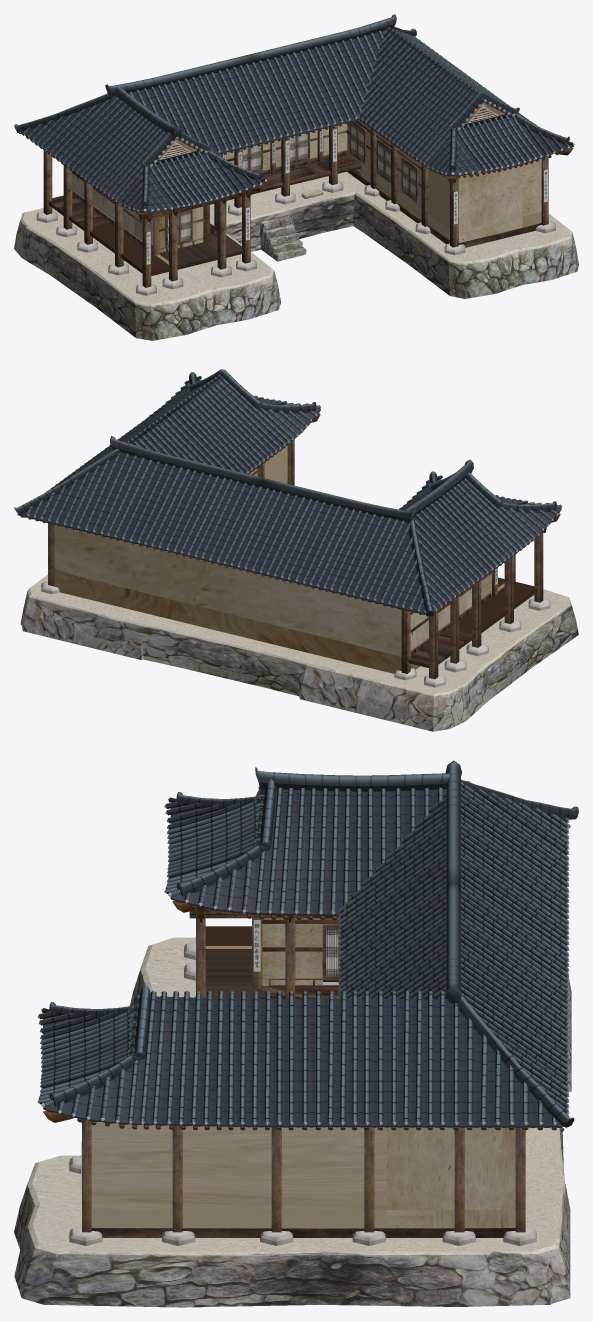
The model's file is koreahouse(Digut).FBX.
The picture shows the model from 3 angles, top to bottom: view 1: azimuth 30°, elevation 25°; view 2: azimuth 150°, elevation 25°; view 3: azimuth 270°, elevation 25°; orthographic projection. The views are drawn at different scales.
Parts seen in each view (by area): view 1: Object043, Object048, Object031; view 2: Object043, Object031, Object048; view 3: Object043, Object031, Object048.
Part boxes in pixels (bbox=[...]): Object043: bbox=[14, 14, 574, 218]; Object048: bbox=[14, 171, 578, 340]; Object031: bbox=[43, 120, 548, 287]; Object043: bbox=[14, 369, 562, 618]; Object031: bbox=[48, 440, 546, 679]; Object048: bbox=[20, 574, 578, 731]; Object043: bbox=[37, 760, 578, 1132]; Object031: bbox=[81, 906, 525, 1237]; Object048: bbox=[14, 937, 571, 1307].
Bounding box in the file's own units: 189 × 74.58 × 139.
